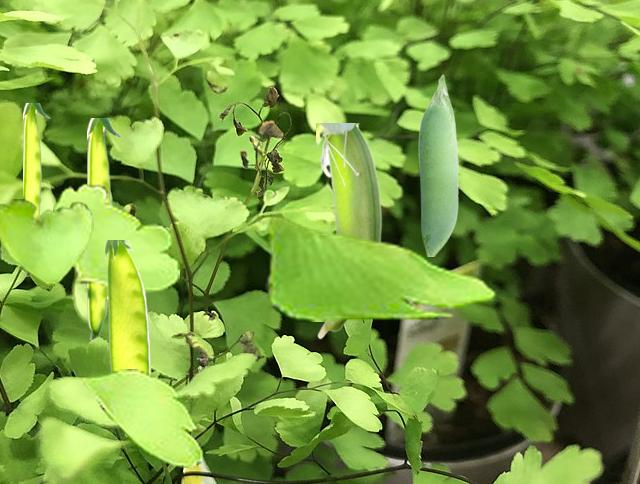pea: (316, 123, 382, 338), (105, 240, 149, 436), (87, 118, 121, 338), (418, 74, 457, 255), (23, 103, 49, 275)
